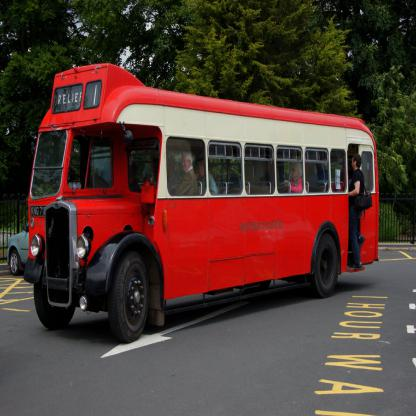Bus: (22, 63, 379, 346)
